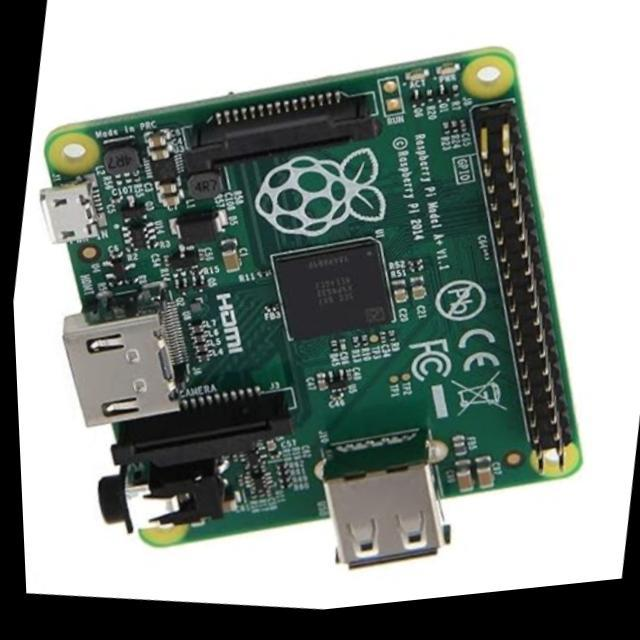Raspberry-Pi-1-A-: (41, 49, 582, 568)
